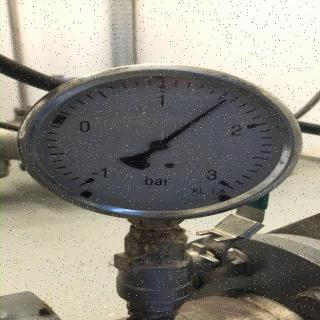gauge: (0, 63, 306, 229), (204, 168, 240, 198), (68, 170, 102, 195), (148, 138, 168, 152), (218, 94, 228, 106)
